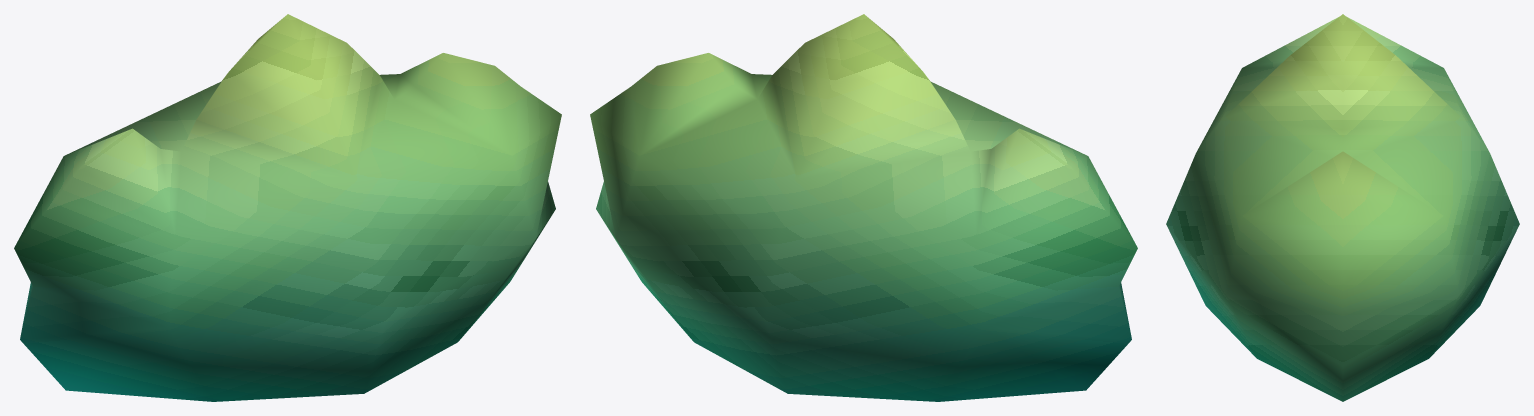
The model's file is bush3.fbx.
3 renders of one model, left to right at view 1: azimuth 30°, elevation 25°; view 2: azimuth 150°, elevation 25°; view 3: azimuth 270°, elevation 25°, orthographic. The views are drawn at different scales.
Parts seen in each view (by area): view 1: Bush3; view 2: Bush3; view 3: Bush3.
Boxes of the visible parts, x1,y1,x2,y2 form: Bush3: [14, 14, 561, 401]; Bush3: [590, 14, 1137, 401]; Bush3: [1166, 14, 1519, 401].
Size of the model in its own units: 708 by 432 by 440.
Materials: 1 (1 with a texture image).
